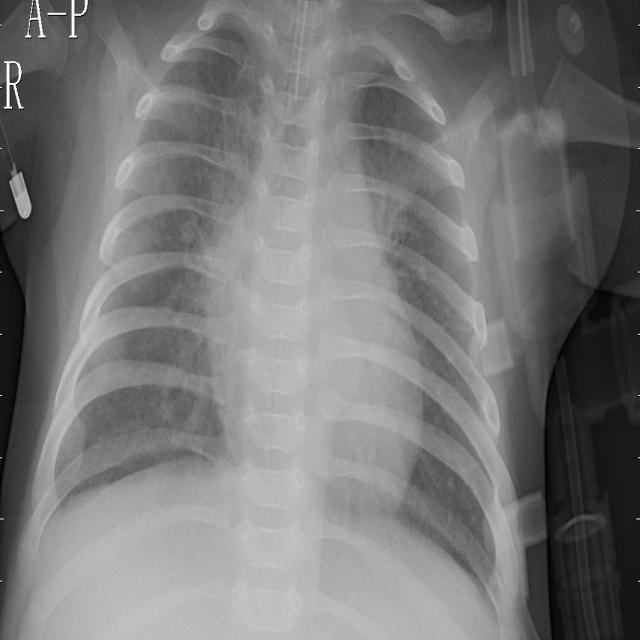low-pneumonia: (202, 56, 265, 226), (361, 129, 430, 275)
